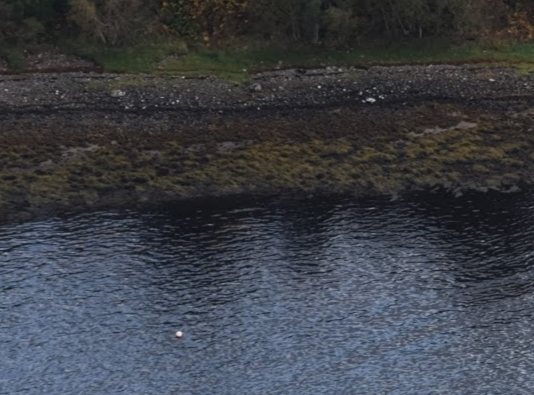white_in_green: (159, 316, 197, 351)
